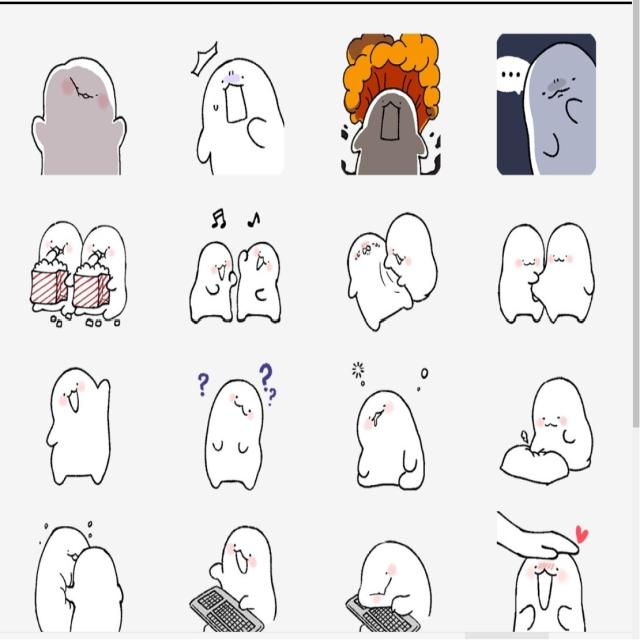-anonymous_ikm: (169, 30, 305, 193), (329, 19, 450, 184), (484, 28, 611, 179), (21, 40, 143, 196), (179, 354, 291, 518), (15, 207, 145, 345), (179, 202, 307, 340), (330, 204, 449, 345), (482, 208, 604, 345), (339, 346, 447, 500), (495, 508, 619, 640), (20, 511, 129, 640), (484, 363, 599, 483), (28, 351, 124, 494), (185, 528, 287, 640), (340, 535, 440, 640)
